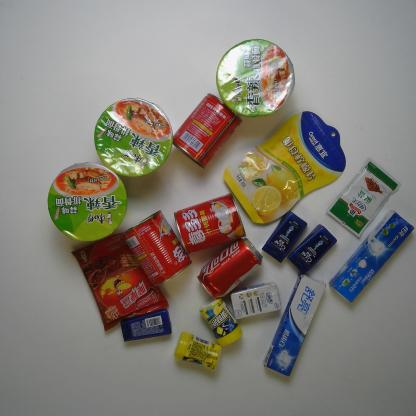Canned Food: (170, 91, 244, 171), (120, 208, 194, 288), (172, 190, 248, 258)
Dessert: (69, 229, 171, 333)
Dried Fruit: (222, 110, 347, 226)
Drink: (195, 235, 266, 303)
Gum: (197, 296, 244, 348), (172, 329, 223, 373)
Instant Noodles: (45, 159, 129, 244), (92, 96, 176, 180), (214, 37, 297, 119)
Milk: (226, 280, 284, 321)
Personal Hygiene: (328, 207, 416, 306), (260, 271, 329, 378), (286, 222, 340, 278), (260, 209, 310, 265), (119, 307, 174, 344)
Seasoner: (324, 155, 402, 240)
